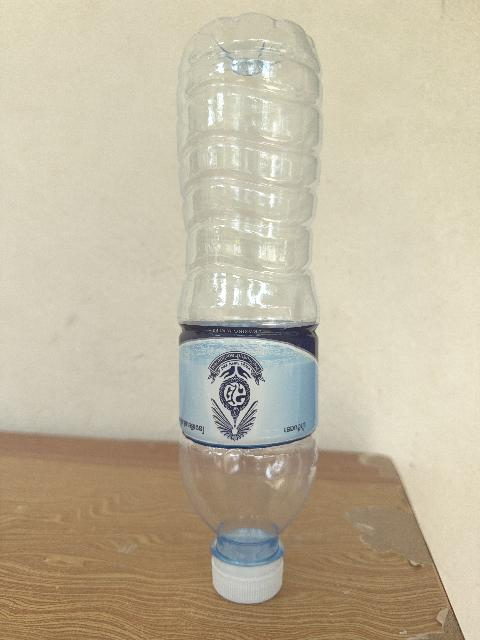bottle: (178, 14, 321, 602)
